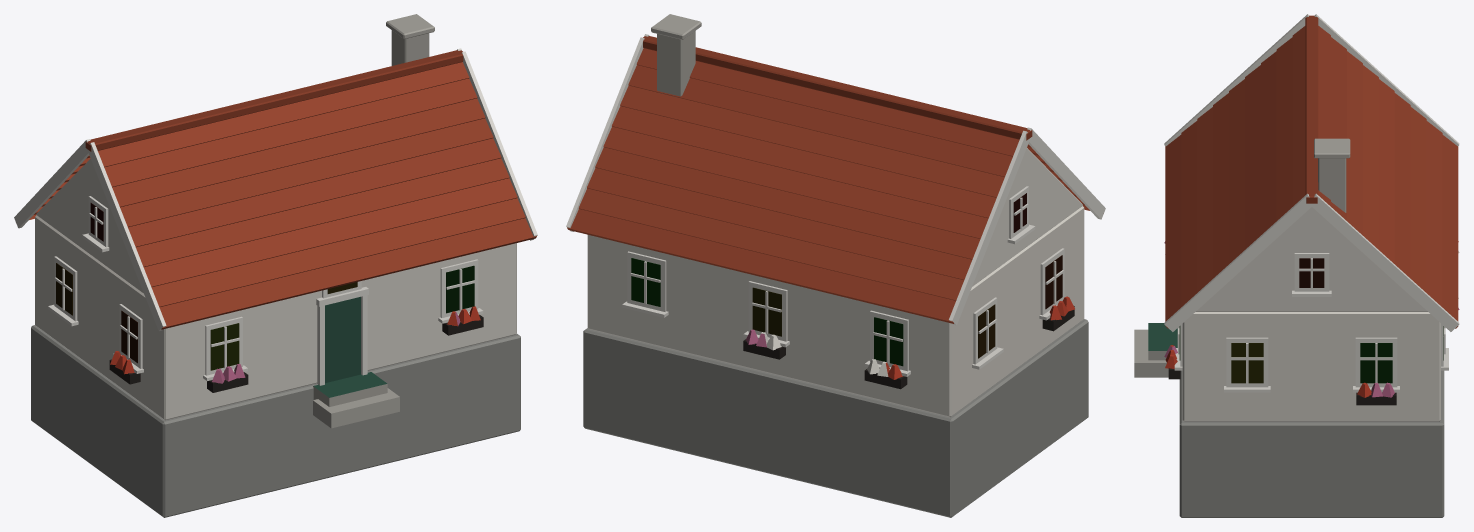
File: lighthouse_keeper_cottage.glb
3 views of the same model, side by side, from view 1: azimuth 30°, elevation 25°; view 2: azimuth 150°, elevation 25°; view 3: azimuth 270°, elevation 25° (orthographic). The views are drawn at different scales.
Parts seen in each view (by area): view 1: keeper_cottage_roof, keeper_cottage_plinth, keeper_cottage_walls, keeper_cottage_trim, keeper_cottage_door, keeper_cottage_ridge, keeper_cottage_glass, keeper_cottage_chimney, keeper_cottage_fflowers, keeper_cottage_fbox; view 2: keeper_cottage_roof, keeper_cottage_plinth, keeper_cottage_walls, keeper_cottage_trim, keeper_cottage_glass, keeper_cottage_ridge, keeper_cottage_chimney, keeper_cottage_fflowers, keeper_cottage_fbox; view 3: keeper_cottage_roof, keeper_cottage_walls, keeper_cottage_plinth, keeper_cottage_trim, keeper_cottage_glass, keeper_cottage_ridge, keeper_cottage_chimney, keeper_cottage_door, keeper_cottage_fflowers, keeper_cottage_fbox.
Part boxes in pixels (box(x1,y1,x2,y2)): keeper_cottage_roof: box(29, 62, 536, 329); keeper_cottage_plinth: box(31, 325, 520, 517); keeper_cottage_walls: box(35, 159, 516, 420); keeper_cottage_trim: box(14, 48, 537, 385); keeper_cottage_door: box(313, 296, 399, 428); keeper_cottage_ridge: box(85, 50, 463, 151); keeper_cottage_glass: box(56, 203, 474, 370); keeper_cottage_chimney: box(386, 14, 434, 65); keeper_cottage_fflowers: box(110, 306, 480, 383); keeper_cottage_fbox: box(109, 314, 483, 392); keeper_cottage_roof: box(567, 48, 1089, 323); keeper_cottage_plinth: box(583, 319, 1088, 517); keeper_cottage_walls: box(587, 148, 1084, 417); keeper_cottage_trim: box(566, 34, 1105, 376); keeper_cottage_glass: box(631, 193, 1062, 366); keeper_cottage_ridge: box(643, 36, 1032, 140); keeper_cottage_chimney: box(651, 14, 701, 97); keeper_cottage_fflowers: box(746, 296, 1074, 379); keeper_cottage_fbox: box(743, 306, 1074, 389); keeper_cottage_roof: box(1165, 26, 1458, 328); keeper_cottage_walls: box(1182, 207, 1440, 421); keeper_cottage_plinth: box(1179, 370, 1444, 517); keeper_cottage_trim: box(1164, 14, 1459, 392); keeper_cottage_glass: box(1179, 258, 1443, 383); keeper_cottage_ridge: box(1305, 15, 1318, 203); keeper_cottage_chimney: box(1314, 138, 1350, 212); keeper_cottage_door: box(1134, 323, 1177, 377); keeper_cottage_fflowers: box(1164, 241, 1459, 397); keeper_cottage_fbox: box(1168, 368, 1396, 405).
Bounding box in the file's own units: 10.92 × 9.74 × 8.06.
